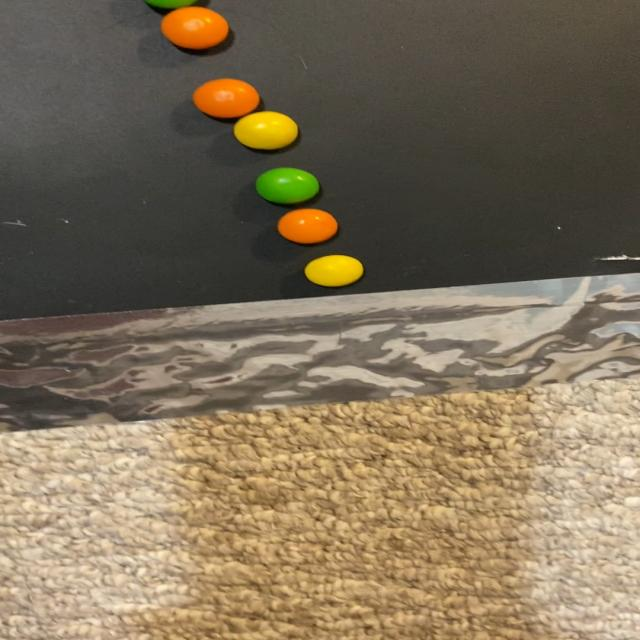smartie: (160, 6, 228, 48), (191, 78, 258, 118), (233, 111, 297, 149), (255, 167, 318, 204), (277, 209, 337, 244), (304, 255, 363, 287)
